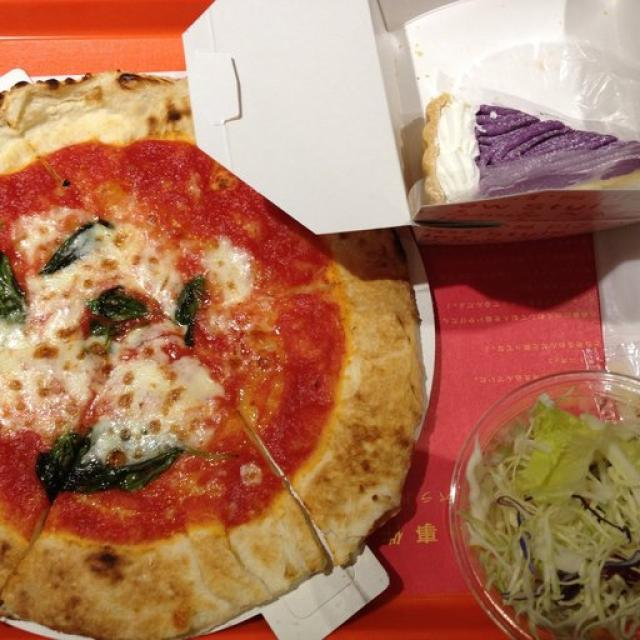Basil: (38, 434, 190, 502), (47, 220, 111, 273), (90, 297, 156, 321), (177, 281, 204, 335), (0, 262, 27, 310)
Pizza: (0, 72, 426, 640)
